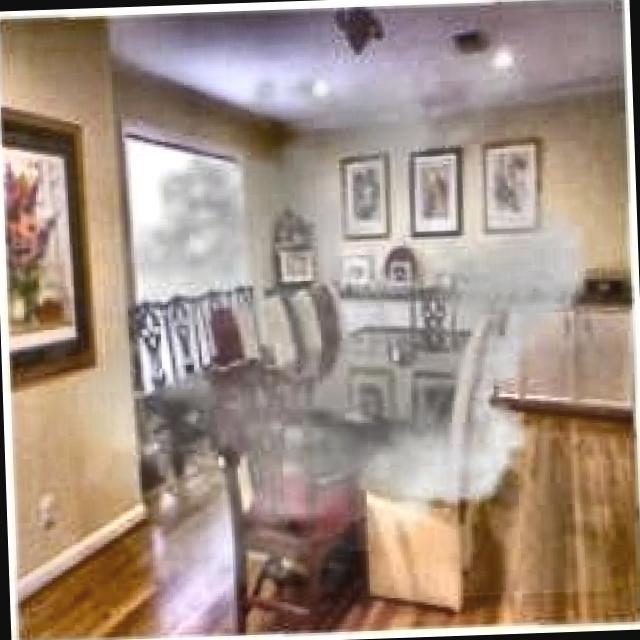smoke: (167, 182, 559, 498)
